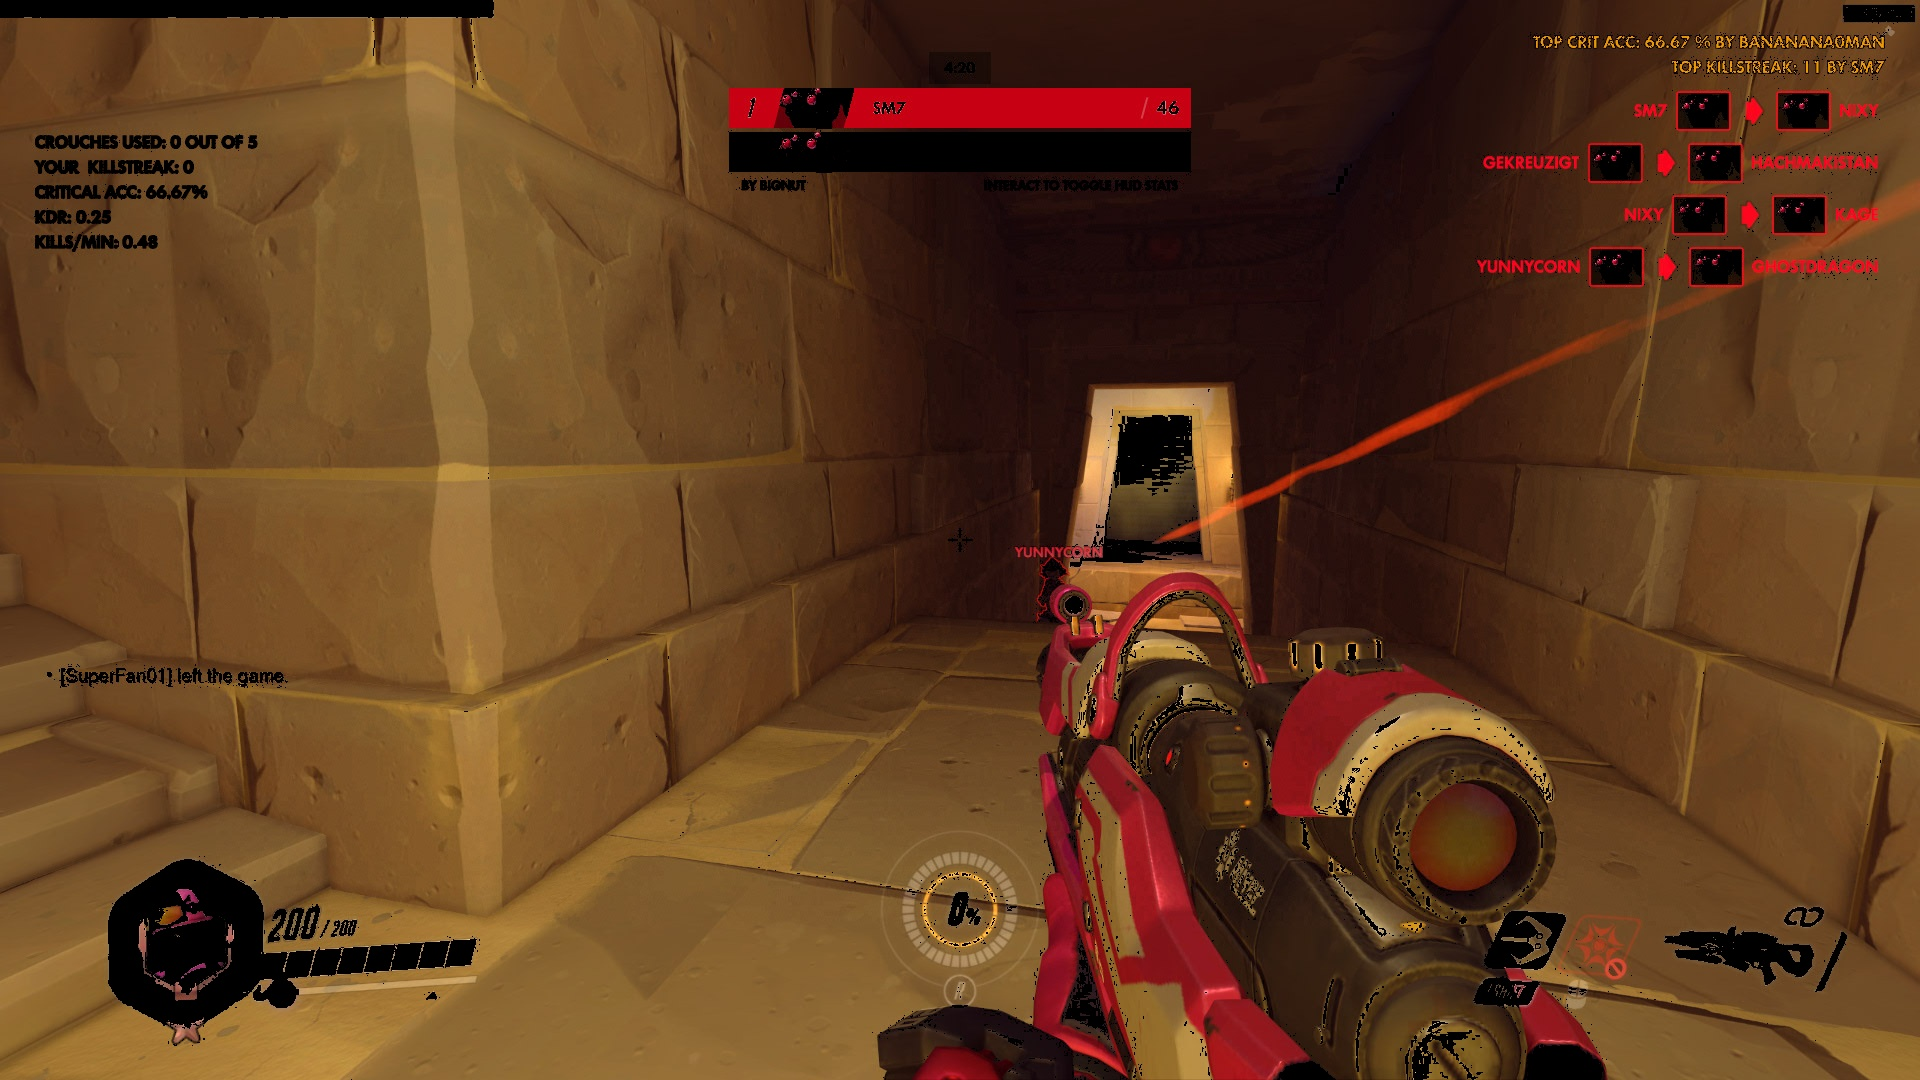widowmaker: (1029, 555, 1077, 625)
